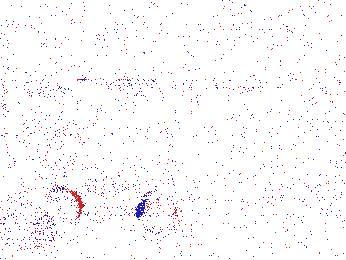flame jellyfish: (17, 97, 67, 149), (137, 191, 184, 238), (33, 187, 81, 232)
